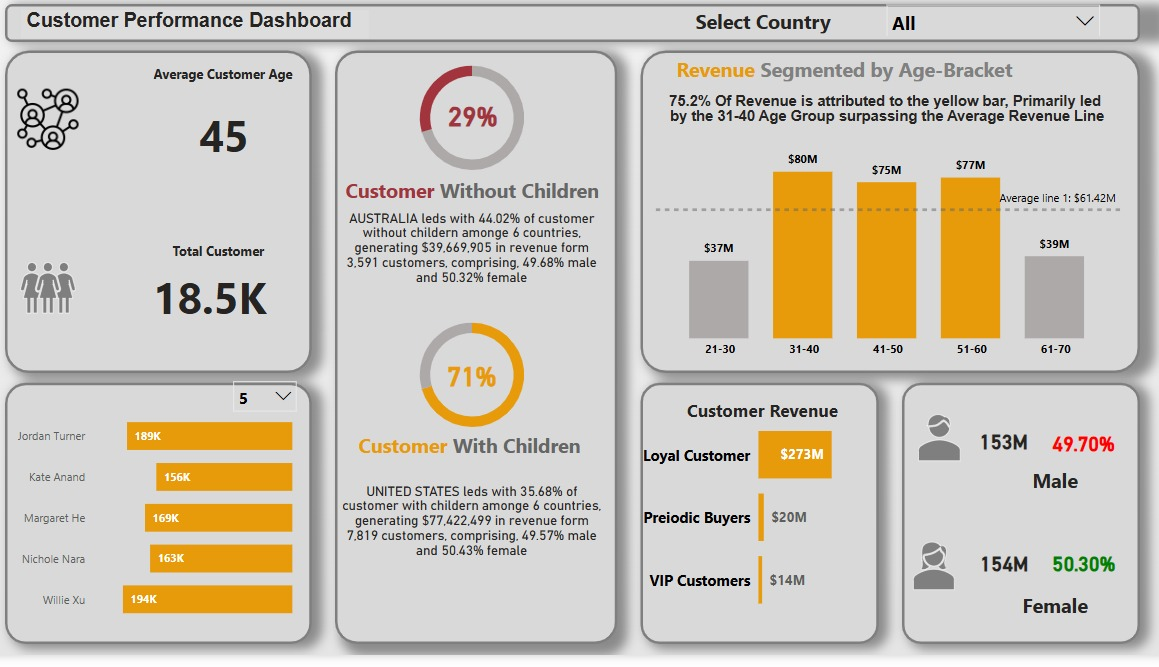

The page's visual inventory and layout, read from the dashboard file:
{"tool":"powerbi","page":{"name":"Day Theme","canvas":[1280,720],"ordinal":0},"visuals":[{"type":"textbox","box":[35,19,378,30.6],"z":0},{"type":"clusteredColumnChart","fields":{"Category":["DimCustomer.Age Category"],"Y":["All Measures.Total Revenue"]},"box":[719.5,159.1,515.2,246.7],"z":1000},{"type":"card","title":"Total Customer","fields":{"Values":["Customer Measure.#Customer"]},"box":[163,282.6,153.3,93.5],"z":2000},{"type":"donutChart","fields":{"Y":["Customer Measure.% CWC","Customer Measure.% C Without childern"]},"box":[429.1,60.3,191.2,151.8],"z":3000,"group":"g2"},{"type":"card","fields":{"Values":["Customer Measure.Avg Caption"]},"box":[704.9,93.4,541.5,65.7],"z":3000},{"type":"textbox","box":[742.9,62.8,392.6,37.9],"z":4000},{"type":"donutChart","fields":{"Y":["Customer Measure.% CWC","Customer Measure.% C Without childern"]},"box":[429.1,338.6,191.2,151.8],"z":4000,"group":"g1"},{"type":"group","id":"g1","title":"Group 2","box":[429.1,338.6,191.2,151.8],"z":5000},{"type":"textbox","box":[173.9,73.9,170.7,38],"z":6000},{"type":"card","fields":{"Values":["Customer Measure.% C Without childern"]},"box":[484.6,99.7,81.7,67.1],"z":6000,"group":"g2"},{"type":"group","id":"g2","title":"Group 3","box":[429.1,60.3,191.2,151.8],"z":7000},{"type":"card","fields":{"Values":["Customer Measure.% CWC"]},"box":[481.6,391.1,86.1,46.7],"z":7000,"group":"g1"},{"type":"textbox","box":[382.4,194.1,299.2,40.9],"z":8000},{"type":"textbox","box":[397,471.4,268.6,37.9],"z":9000},{"type":"card","fields":{"Values":["Customer Measure.Caption Customer Without Children"]},"box":[375.1,510.8,299.2,127],"z":10000},{"type":"card","fields":{"Values":["Customer Measure.Caption Customer With Children"]},"box":[375.1,214.5,299.2,127],"z":11000},{"type":"barChart","fields":{"Category":["DimCustomer.Customer Type"],"Y":["All Measures.Total Revenue"]},"box":[704.3,435.7,257.1,262.9],"z":12000},{"type":"clusteredBarChart","fields":{"Category":["DimCustomer.Full Name"],"Y":["Customer Measure.Dynamic Customers"]},"box":[20,436.2,315,262.5],"z":13000},{"type":"slicer","fields":{"Values":["Dynamic Customer.Dynamic Customer"]},"box":[255.4,412,89.1,45.7],"z":14000},{"type":"card","fields":{"Values":["Customer Measure.Male Revenu"]},"box":[1060.9,462,83.7,52.2],"z":15000},{"type":"card","fields":{"Values":["Customer Measure.Female Revenu"]},"box":[1066.3,583.7,73.9,73.9],"z":16000},{"type":"card","fields":{"Values":["Customer Measure.% Male"]},"box":[1144.6,463,90.2,54.3],"z":17000},{"type":"card","fields":{"Values":["Customer Measure.% Female"]},"box":[1144.6,583.7,90.2,73.9],"z":18000},{"type":"card","fields":{"Values":["Customer Measure.Average Customer Age"]},"box":[194.6,112,121.7,82.6],"z":19000},{"type":"textbox","box":[194.6,266.3,170.7,38],"z":20000},{"type":"textbox","box":[1023.9,509.8,232.6,42.4],"z":21000},{"type":"textbox","box":[1012,645.7,222.8,42.4],"z":22000},{"type":"textbox","box":[719.6,435.9,242.4,42.4],"z":23000},{"type":"slicer","fields":{"Values":["DimGeography.Country"]},"box":[971,8,242,39],"z":24000},{"type":"textbox","box":[737,10.9,208.7,38],"z":24001}]}

Visuals, with their boxes in screenshot pixels (x1, y1, x2, y2), scaled from the page's 1280x720 canvas onto the 1159x667 screenshot:
textbox: locate(32, 18, 374, 46)
clusteredColumnChart - DimCustomer.Age Category x All Measures.Total Revenue: locate(651, 147, 1118, 376)
"Total Customer" card: locate(148, 262, 286, 348)
donutChart - Customer Measure.% CWC x Customer Measure.% C Without childern: locate(389, 56, 562, 196)
card - Customer Measure.Avg Caption: locate(638, 87, 1129, 147)
textbox: locate(673, 58, 1028, 93)
donutChart - Customer Measure.% CWC x Customer Measure.% C Without childern: locate(389, 314, 562, 454)
"Group 2" group: locate(389, 314, 562, 454)
textbox: locate(157, 68, 312, 104)
card - Customer Measure.% C Without childern: locate(439, 92, 513, 155)
"Group 3" group: locate(389, 56, 562, 196)
card - Customer Measure.% CWC: locate(436, 362, 514, 406)
textbox: locate(346, 180, 617, 218)
textbox: locate(359, 437, 603, 472)
card - Customer Measure.Caption Customer Without Children: locate(340, 473, 611, 591)
card - Customer Measure.Caption Customer With Children: locate(340, 199, 611, 316)
barChart - DimCustomer.Customer Type x All Measures.Total Revenue: locate(638, 404, 871, 647)
clusteredBarChart - DimCustomer.Full Name x Customer Measure.Dynamic Customers: locate(18, 404, 303, 647)
slicer - Dynamic Customer.Dynamic Customer: locate(231, 382, 312, 424)
card - Customer Measure.Male Revenu: locate(961, 428, 1036, 476)
card - Customer Measure.Female Revenu: locate(966, 541, 1032, 609)
card - Customer Measure.% Male: locate(1036, 429, 1118, 479)
card - Customer Measure.% Female: locate(1036, 541, 1118, 609)
card - Customer Measure.Average Customer Age: locate(176, 104, 286, 180)
textbox: locate(176, 247, 331, 282)
textbox: locate(927, 472, 1138, 512)
textbox: locate(916, 598, 1118, 637)
textbox: locate(652, 404, 871, 443)
slicer - DimGeography.Country: locate(879, 7, 1098, 44)
textbox: locate(667, 10, 856, 45)
